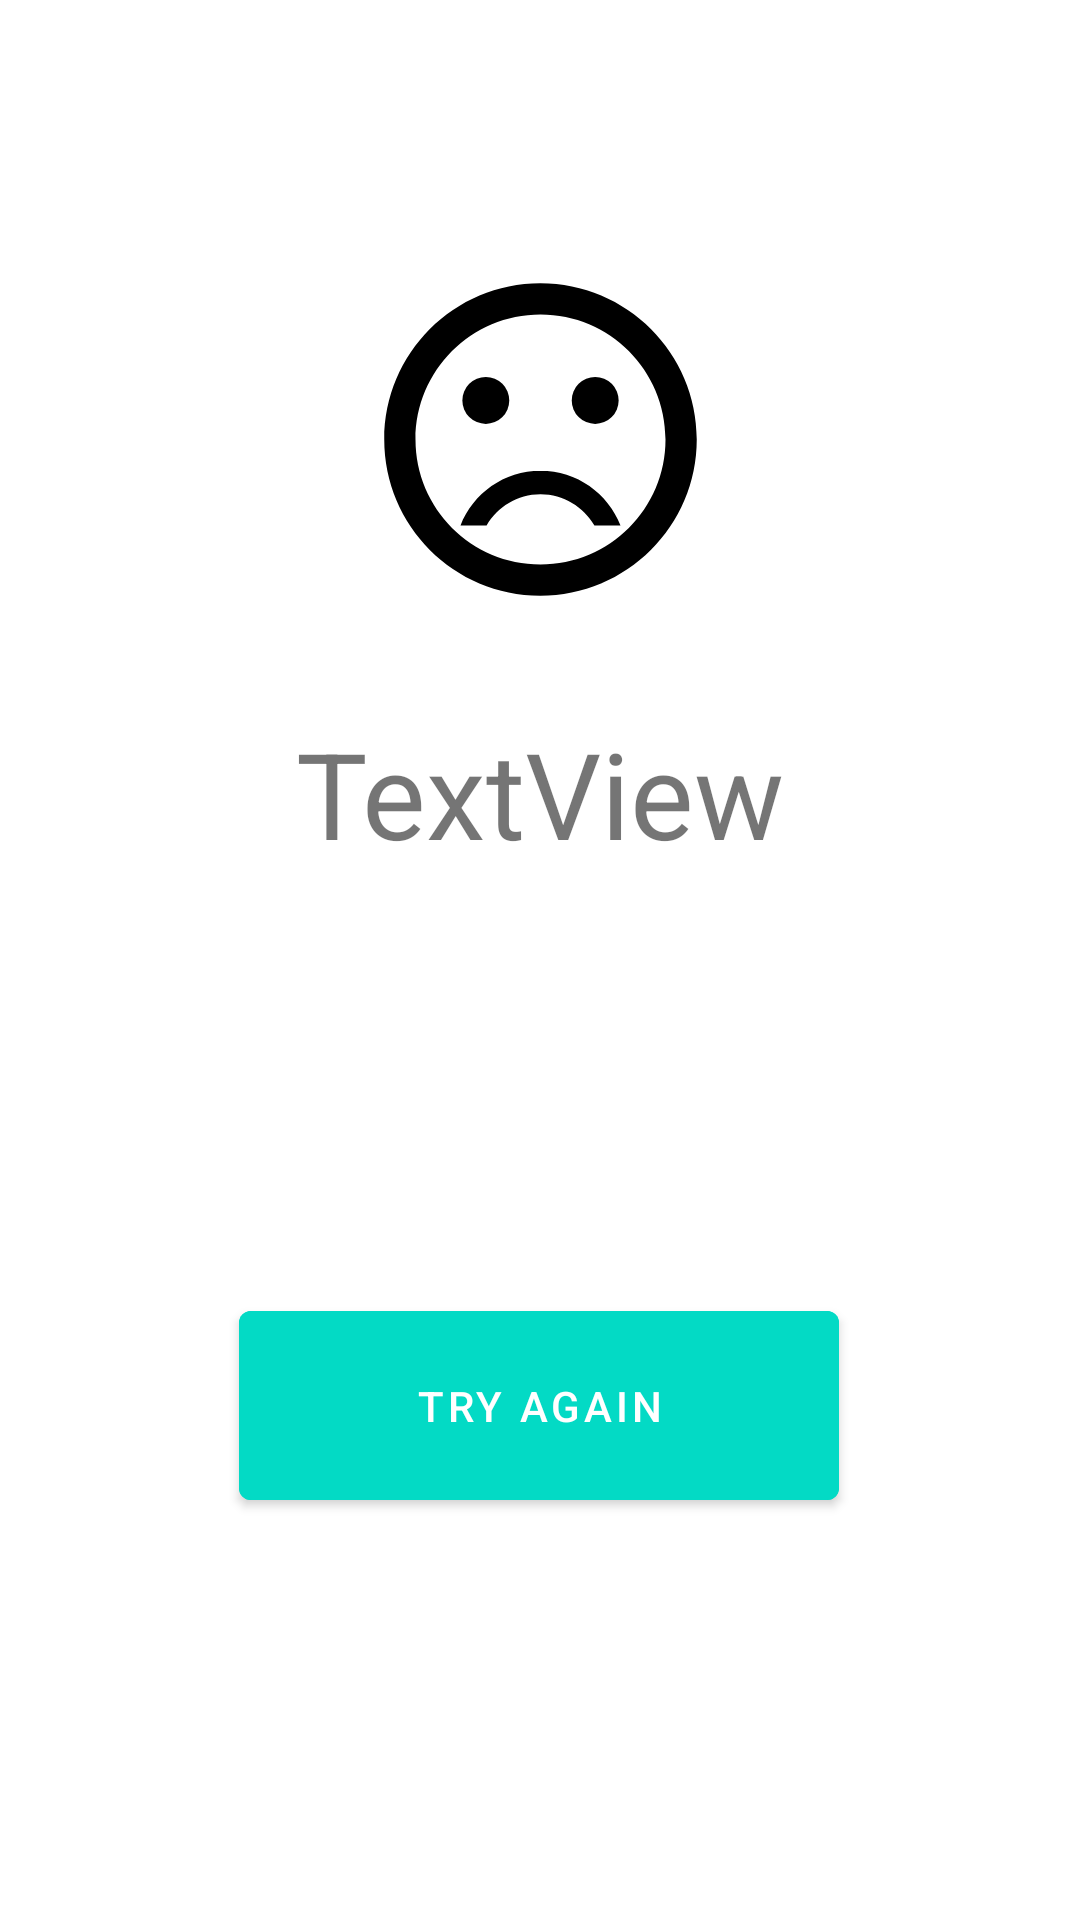

Icon click points for this 1080*1920 phone screenshot, format point (x, y):
game lose: point (540, 439)
